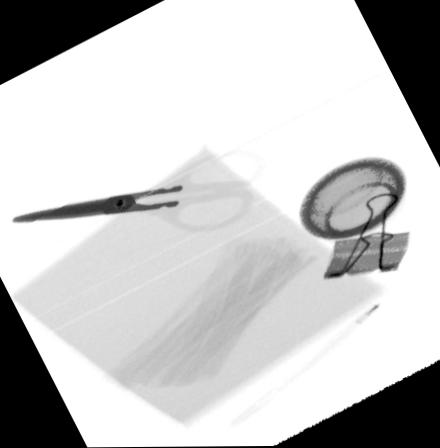Scissors: (11, 142, 261, 232)
